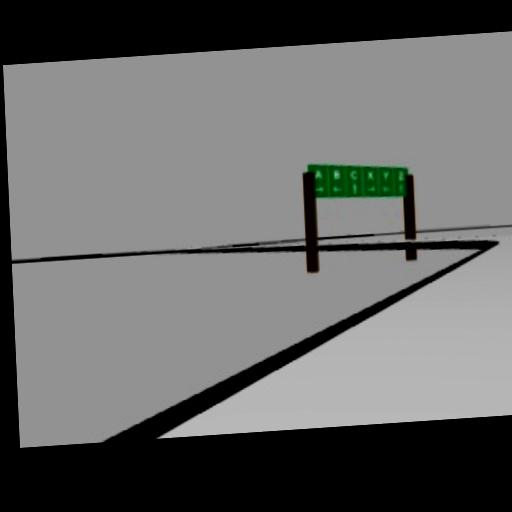A: (314, 167, 323, 180)
B: (332, 168, 341, 180)
C: (349, 168, 358, 180)
Left: (332, 184, 343, 194), (381, 184, 392, 194)
Right: (315, 183, 326, 192), (367, 184, 376, 192)
Straight: (397, 183, 406, 193), (352, 182, 359, 194)
X: (366, 169, 376, 181)
Y: (382, 169, 390, 181)
Z: (397, 169, 405, 181)
